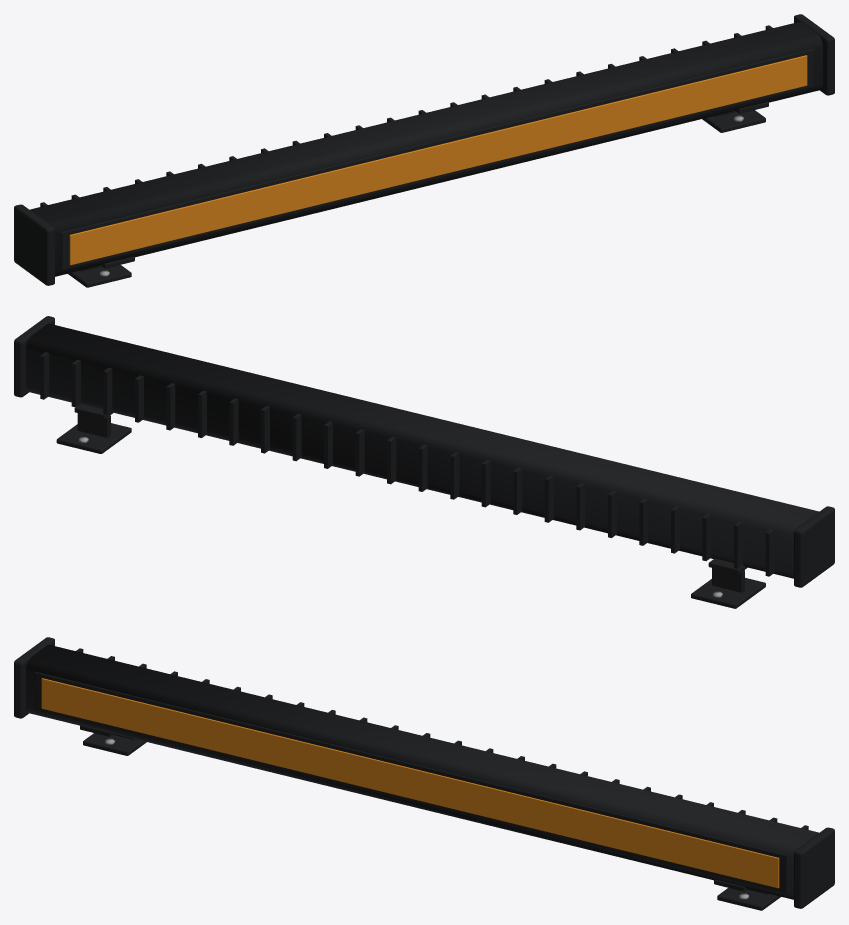
Rendered from lightBar_stedi_st2k_rack.glb.
The picture shows the model from 3 angles, top to bottom: view 1: azimuth 30°, elevation 25°; view 2: azimuth 150°, elevation 25°; view 3: azimuth 330°, elevation 25°; orthographic projection.
Parts seen in each view (by area): view 1: housing.009, lens.009, bezel.009, endCap-1.010, endCap1.010, rFoot-1.004, rFoot1.004; view 2: housing.009, endCap-1.010, rFoot-1.004, rFoot1.004, endCap1.010, rPost1.004, rPost-1.004; view 3: housing.009, lens.009, bezel.009, endCap1.010, endCap-1.010, rFoot1.004, rFoot-1.004.
Part boxes in pixels (left/top/right/bottom): housing.009: left=30, top=21, right=822, bottom=276; lens.009: left=69, top=55, right=807, bottom=265; bezel.009: left=61, top=49, right=813, bottom=270; endCap-1.010: left=14, top=204, right=54, bottom=285; endCap1.010: left=794, top=14, right=834, bottom=95; rFoot-1.004: left=68, top=265, right=131, bottom=287; rFoot1.004: left=702, top=110, right=765, bottom=132; housing.009: left=26, top=323, right=819, bottom=578; endCap-1.010: left=794, top=506, right=834, bottom=587; rFoot-1.004: left=691, top=578, right=765, bottom=608; rFoot1.004: left=56, top=423, right=131, bottom=453; endCap1.010: left=14, top=316, right=54, bottom=397; rPost1.004: left=77, top=413, right=110, bottom=437; rPost-1.004: left=712, top=568, right=744, bottom=592; housing.009: left=26, top=644, right=818, bottom=899; lens.009: left=41, top=678, right=779, bottom=888; bezel.009: left=35, top=672, right=787, bottom=893; endCap1.010: left=794, top=827, right=834, bottom=908; endCap-1.010: left=14, top=637, right=54, bottom=718; rFoot1.004: left=717, top=888, right=780, bottom=910; rFoot-1.004: left=83, top=733, right=146, bottom=755.
Size of the model in its own units: 1.04 by 0.104 by 0.104.
